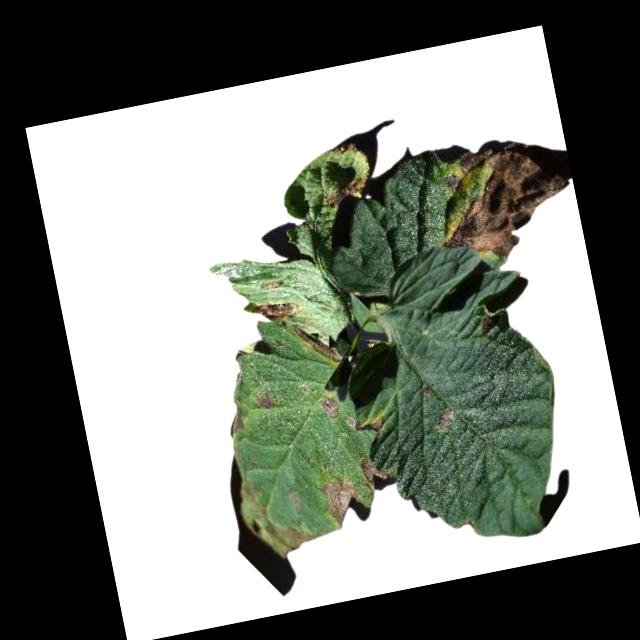Early_blight: (423, 134, 581, 270), (318, 472, 362, 530), (295, 321, 341, 371), (318, 172, 371, 207), (249, 293, 301, 326), (357, 450, 392, 496), (225, 403, 248, 437), (434, 403, 459, 431), (320, 394, 343, 419), (356, 414, 383, 434), (255, 389, 275, 412), (329, 141, 357, 157), (478, 311, 497, 334)
